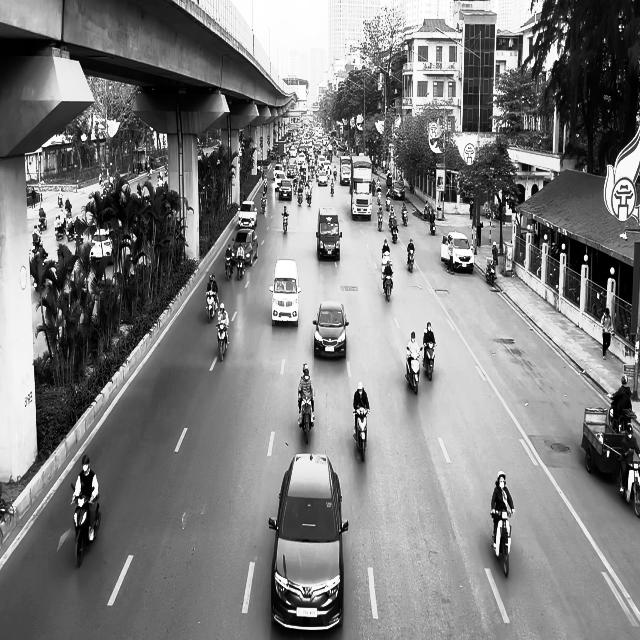car: (269, 452, 349, 631), (270, 258, 302, 326), (313, 300, 349, 360), (441, 230, 474, 274), (316, 206, 342, 261), (232, 228, 258, 266), (89, 229, 114, 265), (238, 200, 258, 228)
motorbike: (70, 483, 102, 568), (491, 507, 515, 577), (617, 451, 640, 516), (353, 406, 370, 462), (298, 392, 314, 444), (405, 347, 422, 395), (216, 322, 229, 361), (423, 342, 436, 380), (206, 290, 217, 322), (382, 272, 393, 302), (486, 256, 496, 284), (237, 253, 246, 280), (225, 254, 234, 280), (407, 248, 415, 273), (282, 212, 289, 235), (391, 221, 398, 243), (378, 210, 383, 231), (402, 210, 408, 227)
